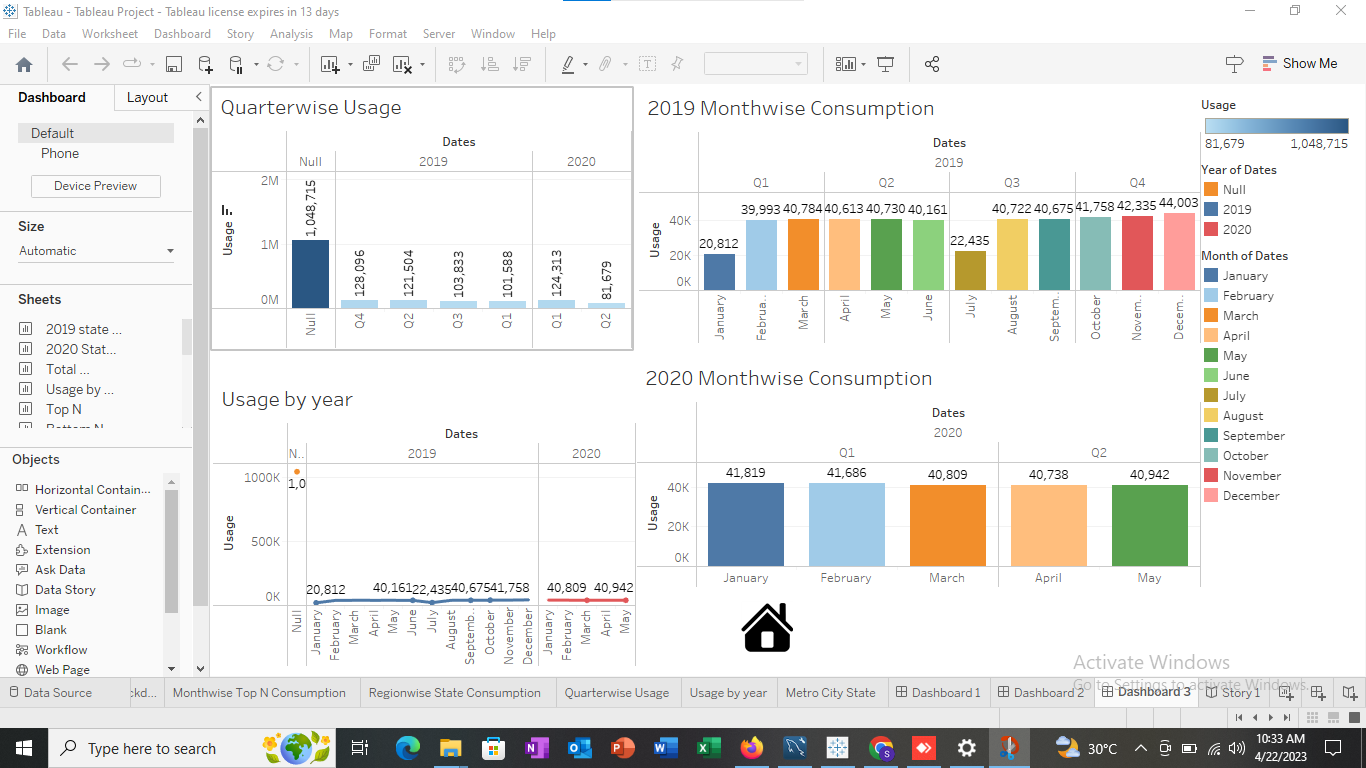

What the dashboard file says about the page in this screenshot:
{"tool":"tableau","page":{"name":"Dashboard 3","canvas":[1000,1000],"units":"permille","ordinal":2},"visuals":[{"type":"worksheet","title":" Quarterwise Usage","mark":"Bar","rows":["Usage"],"cols":["Dates","Dates"],"box":[1.7,6.8,363.6,440.9]},{"type":"worksheet","title":" 2019 Monthwise Consumption","mark":"Bar","rows":["Usage"],"cols":["Dates","Dates","Dates"],"box":[371.4,8.4,486.6,432.4]},{"type":"legend","title":" Quarterwise Usage","param":"[federated.109c9rb1er5z9013tcwor05avt9f].[sum:Usage:qk]","box":[854.5,13.5,138.5,109.8]},{"type":"legend","title":" Usage by year","param":"[federated.109c9rb1er5z9013tcwor05avt9f].[yr:Dates:ok]","box":[854.5,123.3,138.5,145.3]},{"type":"legend","title":" 2019 Monthwise Consumption","param":"[federated.109c9rb1er5z9013tcwor05avt9f].[mn:Dates:ok]","box":[854.5,268.6,138.5,449.3]},{"type":"worksheet","title":" 2020 Monthwise Consumption","mark":"Bar","rows":["Usage"],"cols":["Dates","Dates","Dates"],"box":[369.7,464.5,488.3,386.8]},{"type":"worksheet","title":" Usage by year","mark":"Automatic","rows":["Usage"],"cols":["Dates","Dates"],"box":[2.6,500,366.2,484.8]},{"type":"dashboard-object","box":[411.3,873.3,142,87.8]}]}

Visuals, with their boxes on the dashboard's canvas, which has no fixed pixel size, in thousandths of its width and height (x1, y1, x2, y2). These are canvas units, not pixel positions in the 1366x768 screenshot, which may show the page scaled, cropped or inside an application window:
" Quarterwise Usage" worksheet (Bar marks): [left=2, top=7, right=365, bottom=448]
" 2019 Monthwise Consumption" worksheet (Bar marks): [left=371, top=8, right=858, bottom=441]
" Quarterwise Usage" legend: [left=854, top=14, right=993, bottom=123]
" Usage by year" legend: [left=854, top=123, right=993, bottom=269]
" 2019 Monthwise Consumption" legend: [left=854, top=269, right=993, bottom=718]
" 2020 Monthwise Consumption" worksheet (Bar marks): [left=370, top=464, right=858, bottom=851]
" Usage by year" worksheet: [left=3, top=500, right=369, bottom=985]
dashboard-object: [left=411, top=873, right=553, bottom=961]
